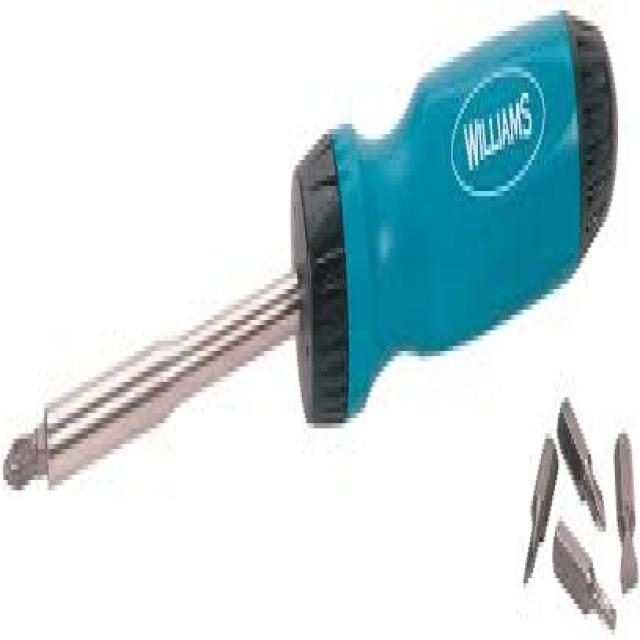screw driver: (0, 12, 550, 640)
